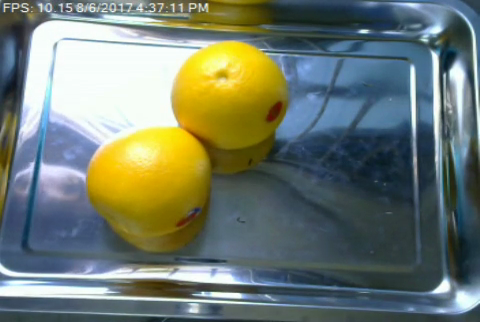Orange: (87, 126, 211, 234), (172, 40, 291, 149)
